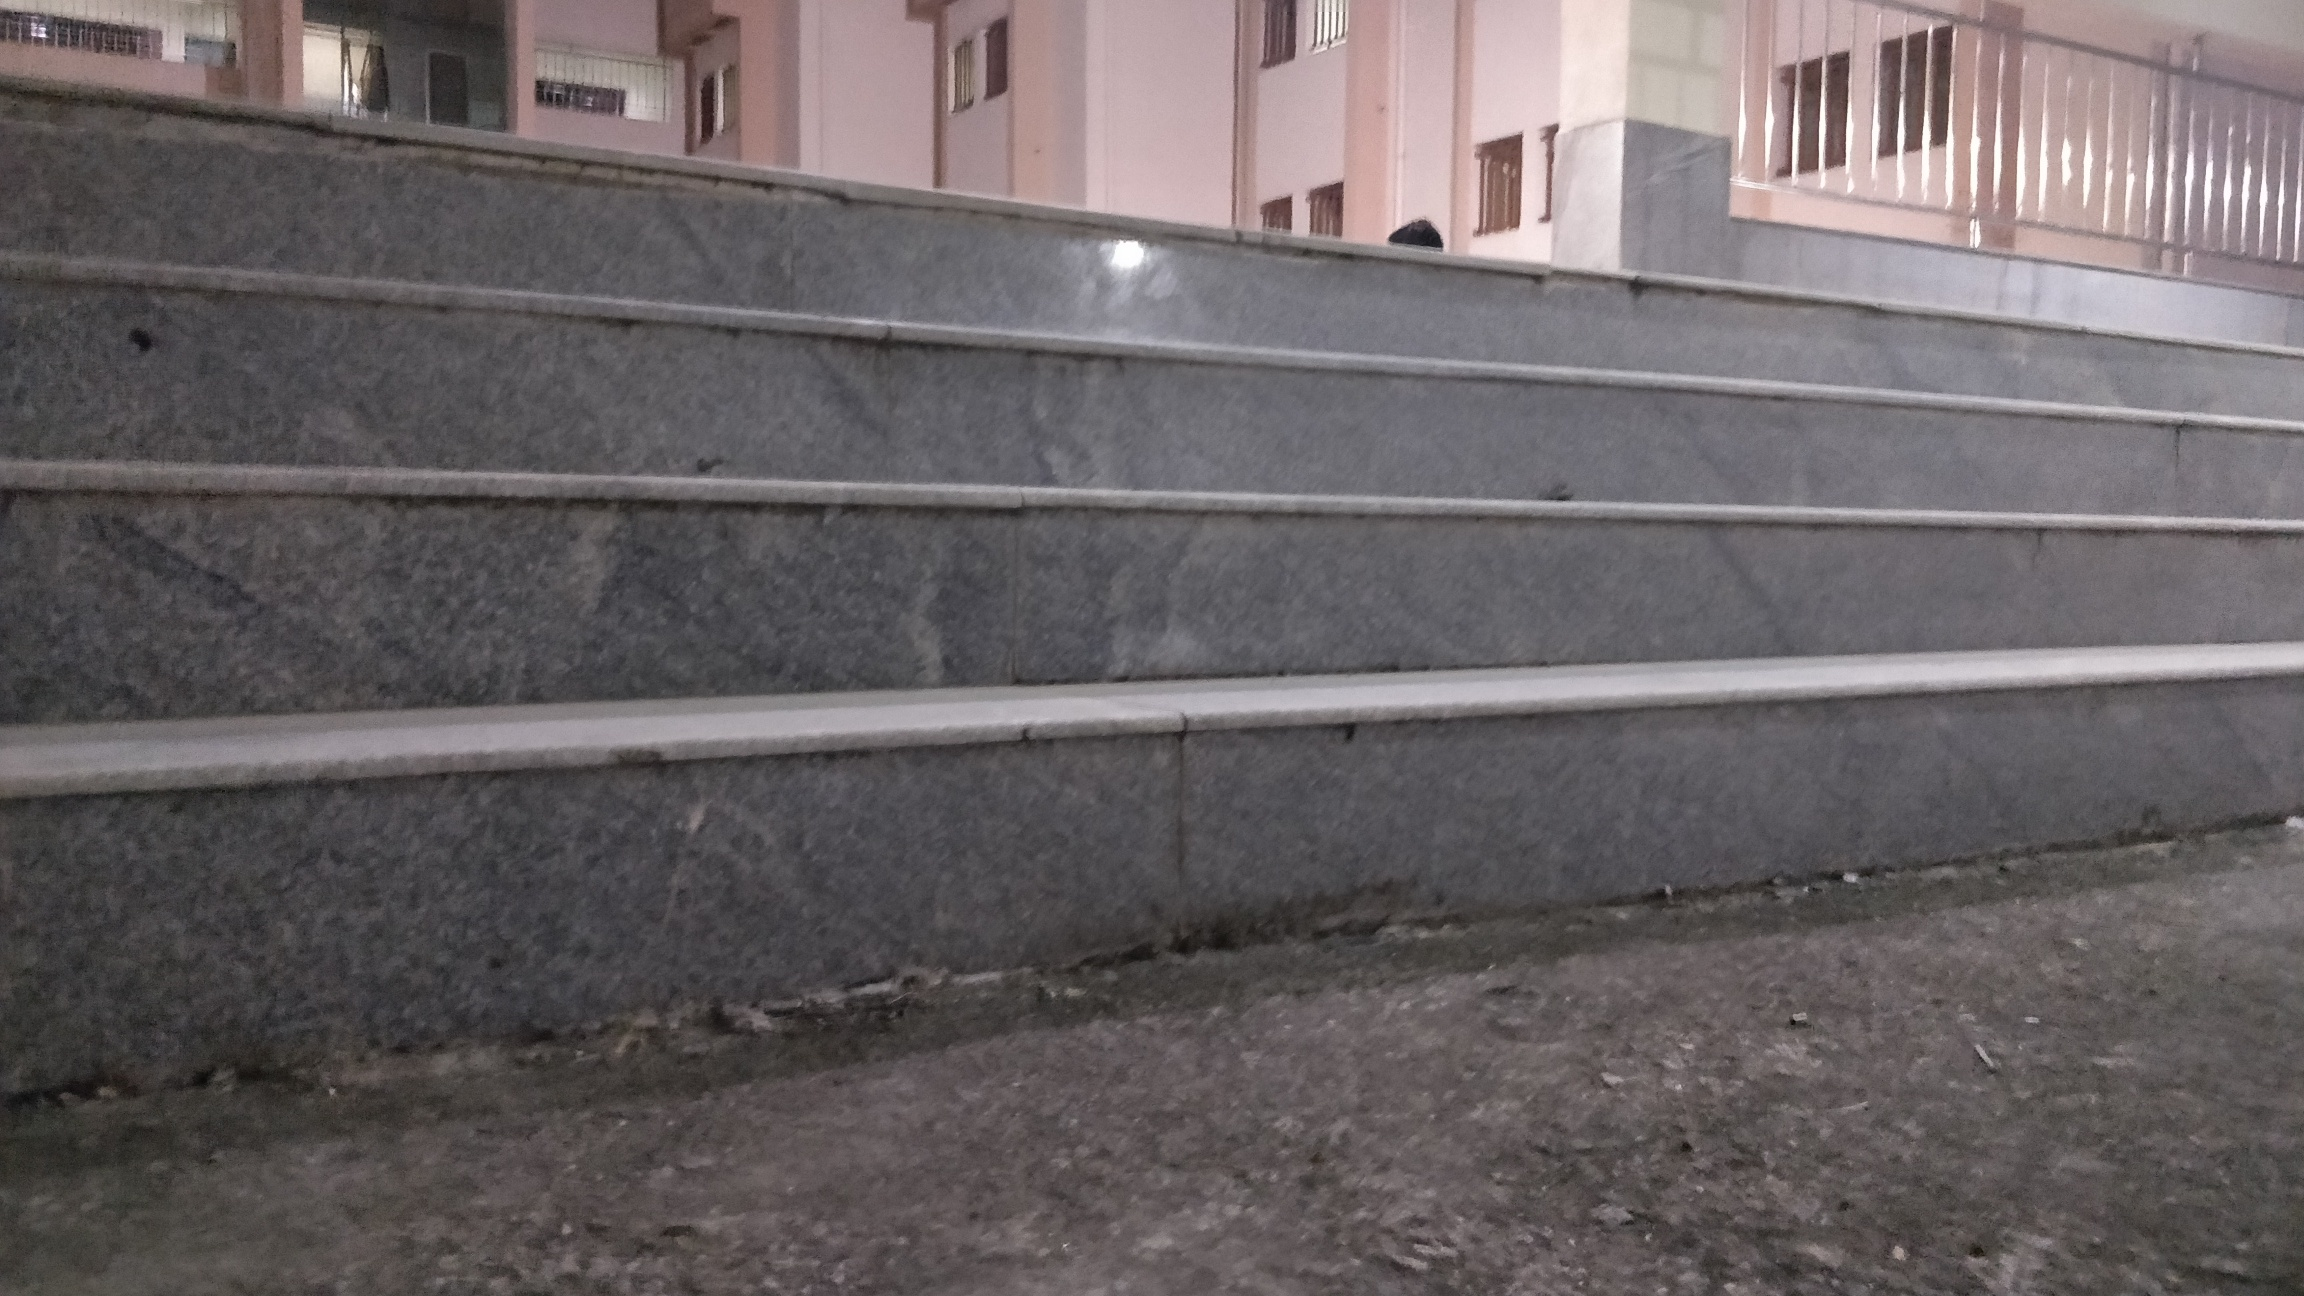stairs_up: (22, 108, 2304, 853)
